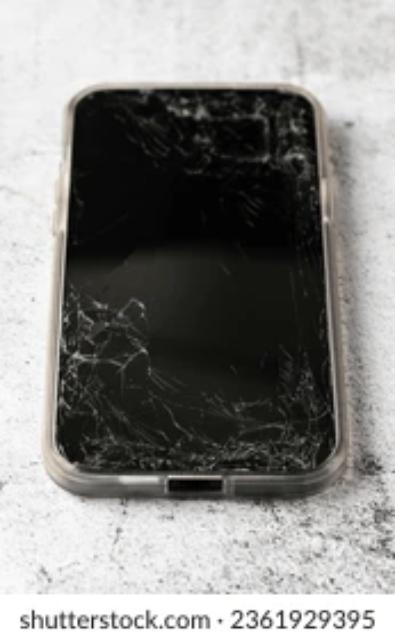Crack: (52, 274, 344, 521), (89, 67, 347, 205)
